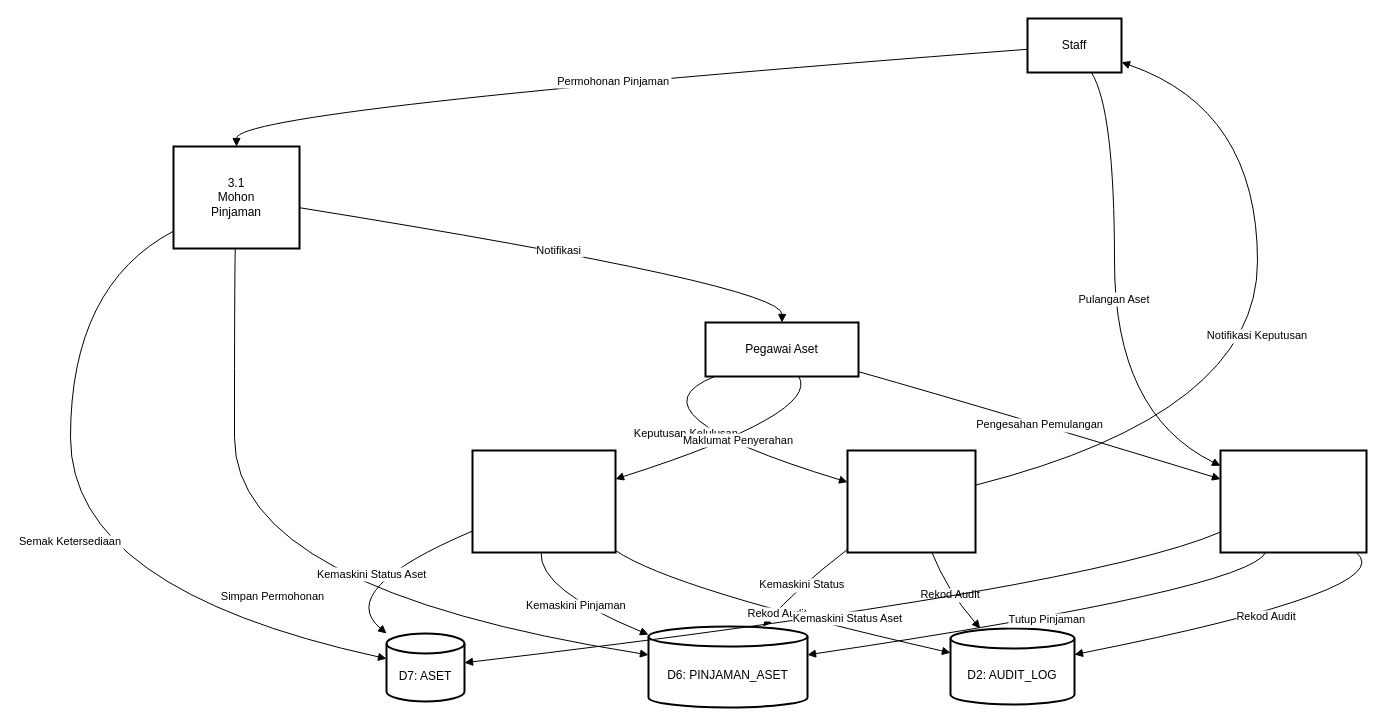
The diagram is 1384 pixels wide and 725 high, and some of its shapes have lost their labels. The shapes that lost their labels are listed below. From the top down, each one's box as (x1, y1, x2, y2) in pixels, then its label:
(471, 449, 616, 553): 3.3 Rekod Penyerahan
(846, 449, 976, 553): 3.2 Proses Kelulusan
(1219, 449, 1367, 553): 3.4 Rekod Pemulangan
